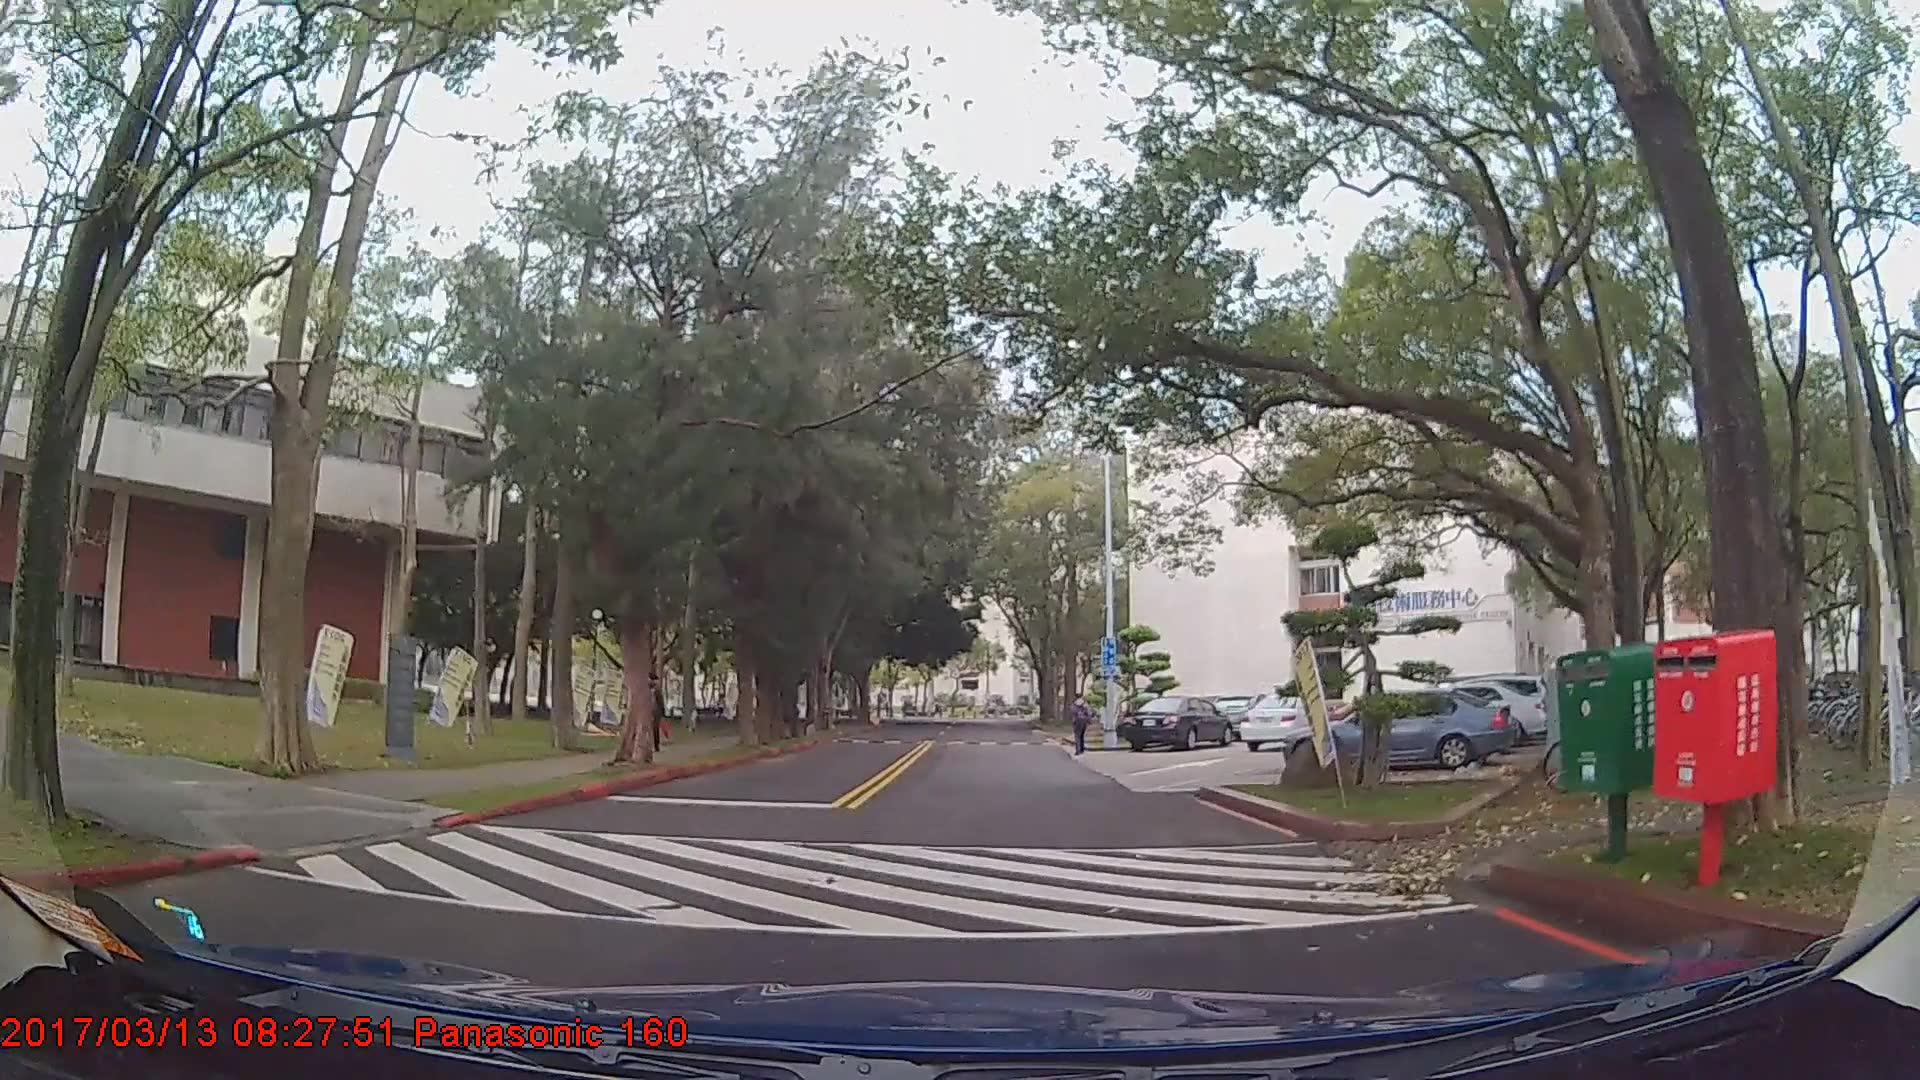pedestrian: (637, 672, 668, 754), (1068, 693, 1096, 757)
vehicle: (1281, 683, 1512, 775), (1388, 680, 1547, 743), (1118, 696, 1232, 751), (1238, 691, 1331, 751)
